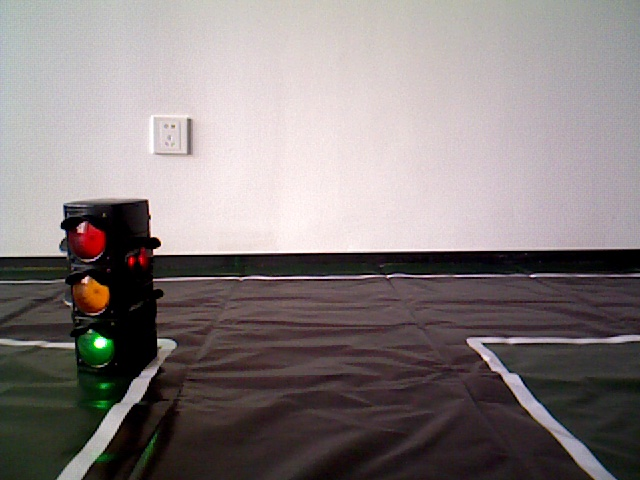green: (68, 205, 149, 366)
